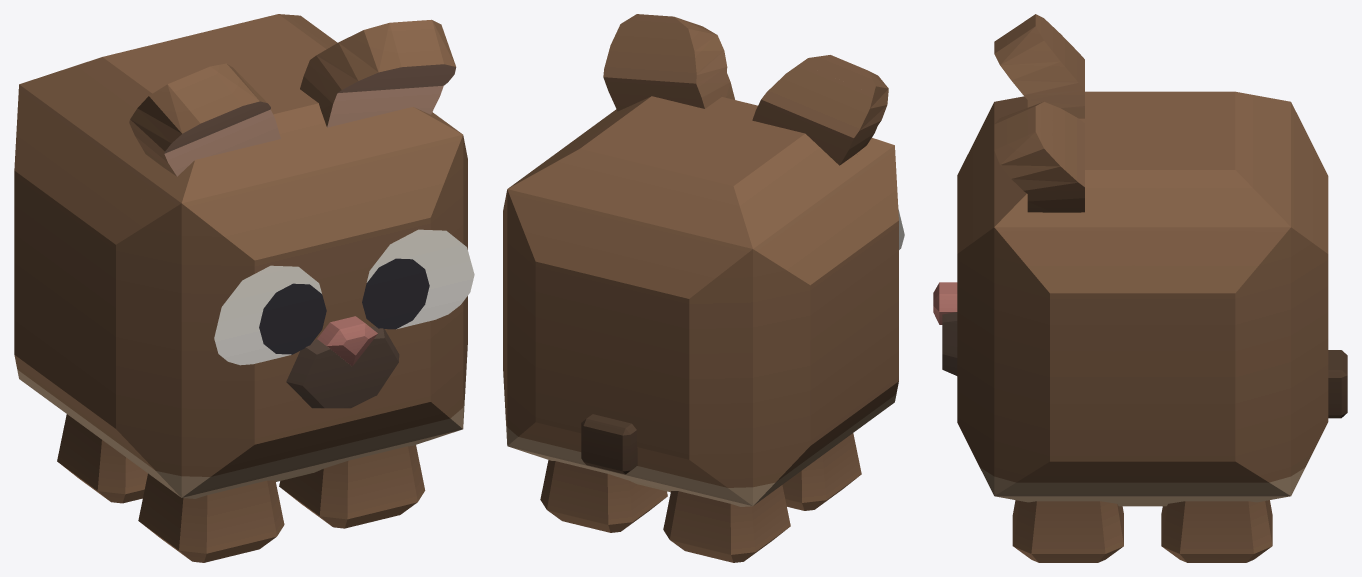
Rendered from tapiti.glb.
The picture shows the model from 3 angles, left to right: view 1: azimuth 30°, elevation 25°; view 2: azimuth 150°, elevation 25°; view 3: azimuth 270°, elevation 25°; orthographic projection. The views are drawn at different scales.
Visible parts, largest first — view 1: head, body, leg-front-right, leg-front-left, leg-back-right; view 2: body, head, leg-back-right, leg-back-left, leg-front-right; view 3: body, head, leg-back-left, leg-front-left.
Part boxes in pixels (x1=…): head: x1=116, y1=19, x2=474, y2=498; body: x1=14, y1=14, x2=354, y2=474; leg-front-right: x1=138, y1=473, x2=284, y2=562; leg-front-left: x1=279, y1=445, x2=425, y2=528; leg-back-right: x1=57, y1=414, x2=147, y2=503; body: x1=503, y1=31, x2=898, y2=506; head: x1=617, y1=14, x2=904, y2=420; leg-back-right: x1=663, y1=485, x2=790, y2=562; leg-back-left: x1=540, y1=460, x2=667, y2=532; leg-front-right: x1=782, y1=433, x2=861, y2=510; body: x1=1050, y1=24, x2=1347, y2=506; head: x1=933, y1=14, x2=1049, y2=502; leg-back-left: x1=1161, y1=500, x2=1272, y2=562; leg-front-left: x1=1012, y1=500, x2=1123, y2=562.
Size of the model in its own units: 1.25 by 1.67 by 1.39.
Materials: 1 (1 with a texture image).
